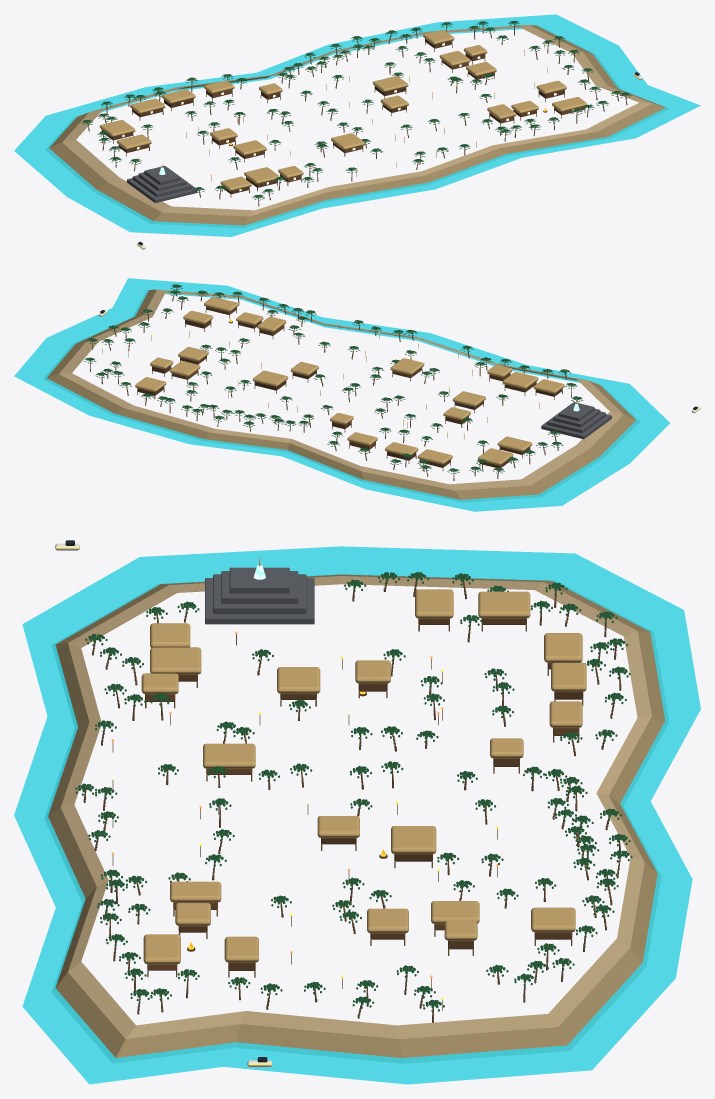
File: by_lagune.glb
3 views of the same model, one above another, from view 1: azimuth 30°, elevation 25°; view 2: azimuth 150°, elevation 25°; view 3: azimuth 270°, elevation 25° (orthographic). The views are drawn at different scales.
Visible parts, largest first — view 1: Lavt vand_net, Stranden_net, Byen_net, Palmer_net, Templet_net; view 2: Lavt vand_net, Stranden_net, Byen_net, Palmer_net, Templet_net; view 3: Lavt vand_net, Stranden_net, Byen_net, Palmer_net, Templet_net.
Part boxes in pixels (left/top/right/bottom): Lavt vand_net: left=14, top=14, right=700, bottom=236; Stranden_net: left=49, top=25, right=666, bottom=225; Byen_net: left=99, top=29, right=587, bottom=197; Palmer_net: left=81, top=21, right=631, bottom=206; Templet_net: left=127, top=164, right=197, bottom=202; Lavt vand_net: left=14, top=278, right=669, bottom=511; Stranden_net: left=46, top=289, right=636, bottom=499; Byen_net: left=135, top=297, right=564, bottom=471; Palmer_net: left=84, top=284, right=582, bottom=480; Templet_net: left=541, top=399, right=611, bottom=439; Lavt vand_net: left=14, top=546, right=700, bottom=1084; Stranden_net: left=48, top=574, right=665, bottom=1059; Byen_net: left=141, top=589, right=586, bottom=977; Palmer_net: left=75, top=572, right=632, bottom=1022; Templet_net: left=205, top=556, right=314, bottom=624.
Bounding box in the file's own units: 92.72 × 5.1 × 50.02.
